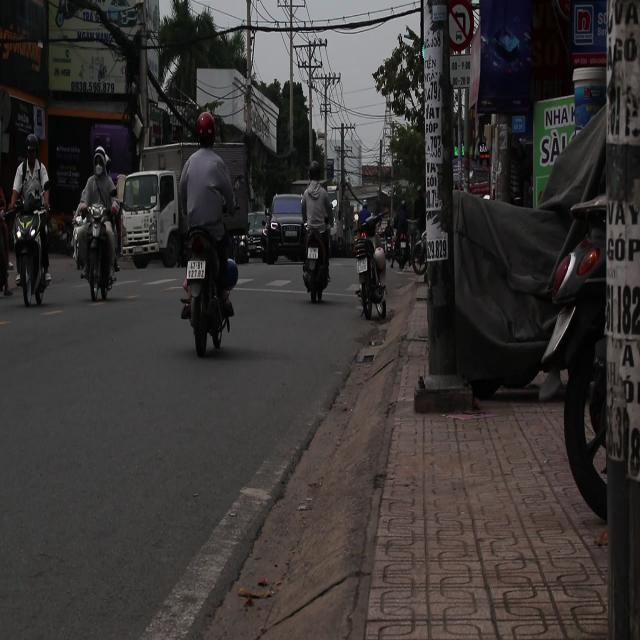car: (260, 195, 306, 264), (246, 211, 268, 260)
motorbike: (180, 227, 238, 357), (4, 194, 59, 320), (74, 202, 123, 303), (297, 218, 340, 321), (354, 242, 388, 321)
truck: (121, 171, 180, 267)
